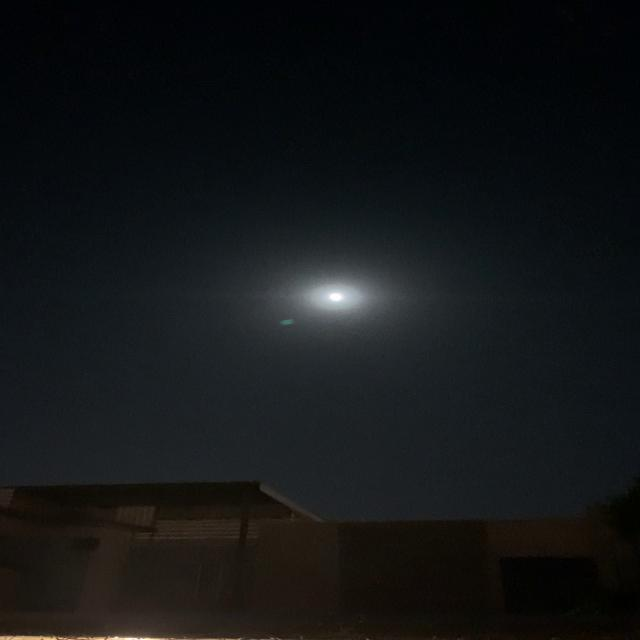moon: (306, 280, 366, 310)
